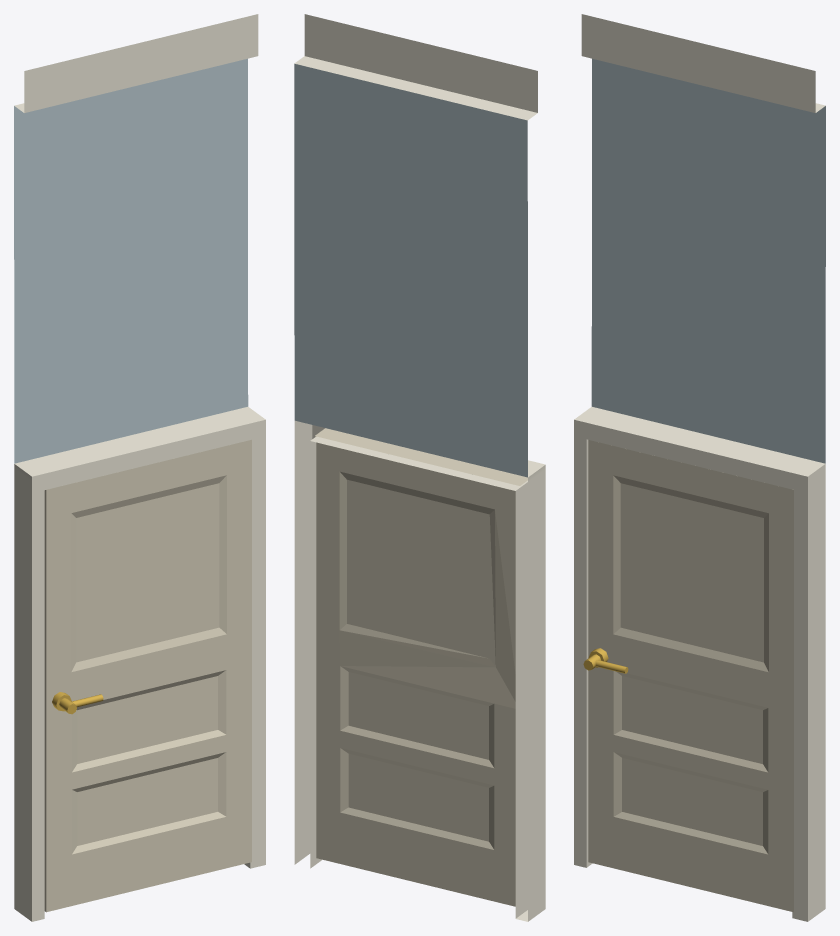
File: 06_wall(door).FBX
The picture shows the model from 3 angles, left to right: view 1: azimuth 30°, elevation 25°; view 2: azimuth 150°, elevation 25°; view 3: azimuth 330°, elevation 25°; orthographic projection.
Parts seen in each view (by area): view 1: 06_wall(door) (×2), Object001, Object002; view 2: 06_wall(door) (×2), Object001, Object002; view 3: 06_wall(door) (×2), Object001, Object002.
Boxes of the visible parts, bbox=[...] form: 06_wall(door) (×2): bbox=[14, 407, 265, 921]; Object001: bbox=[14, 58, 248, 463]; Object002: bbox=[14, 14, 258, 112]; 06_wall(door) (×2): bbox=[294, 420, 545, 921]; Object001: bbox=[294, 63, 527, 477]; Object002: bbox=[294, 14, 537, 120]; 06_wall(door) (×2): bbox=[574, 407, 825, 921]; Object001: bbox=[591, 58, 825, 463]; Object002: bbox=[581, 14, 825, 112].
Bounding box in the file's own units: 727 × 2512 × 167.
